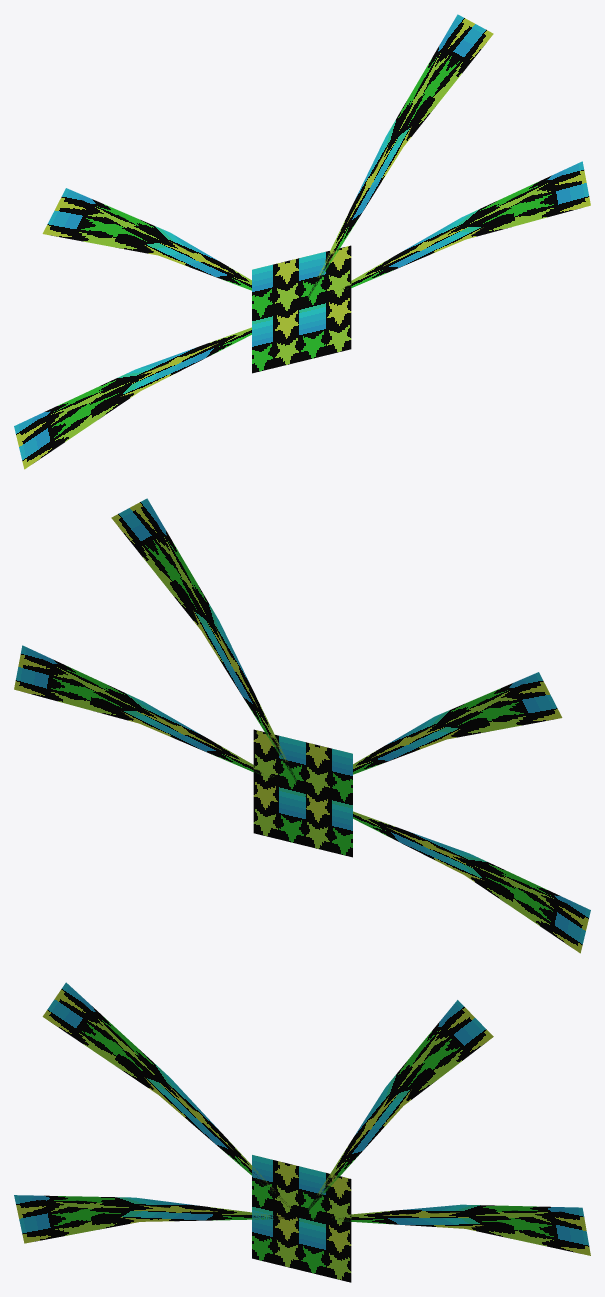
The picture shows the model from 3 angles, top to bottom: view 1: azimuth 30°, elevation 25°; view 2: azimuth 150°, elevation 25°; view 3: azimuth 330°, elevation 25°; orthographic projection.
Visible parts, largest first — view 1: ef_013; view 2: ef_013; view 3: ef_013.
Boxes of the visible parts, <box> form: ef_013: <box>14,14,590,469</box>; ef_013: <box>14,498,590,953</box>; ef_013: <box>14,982,590,1282</box>.
Size of the model in its own units: 1.18 by 0.6843 by 0.
1 material, 1 textured.
